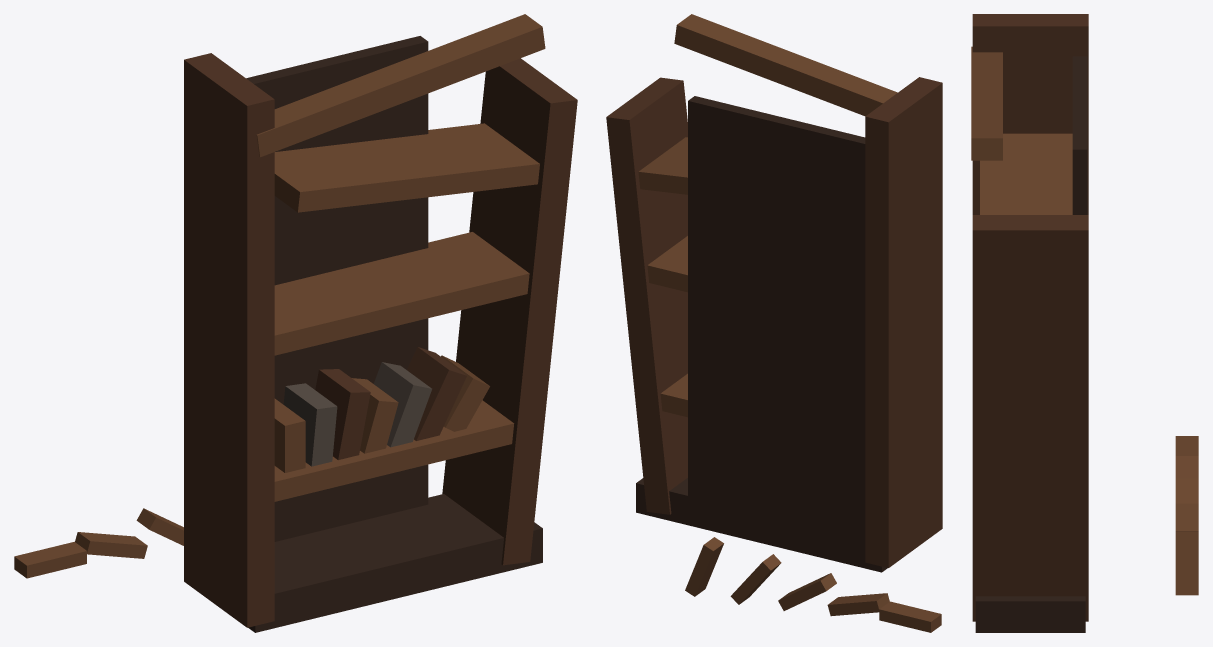
The model's file is Smashed_Bookshelf.obj.
3 views of the same model, side by side, from view 1: azimuth 30°, elevation 25°; view 2: azimuth 150°, elevation 25°; view 3: azimuth 270°, elevation 25° (orthographic). The views are drawn at different scales.
Size of the model in its own units: 1.61 by 1.95 by 0.785.
